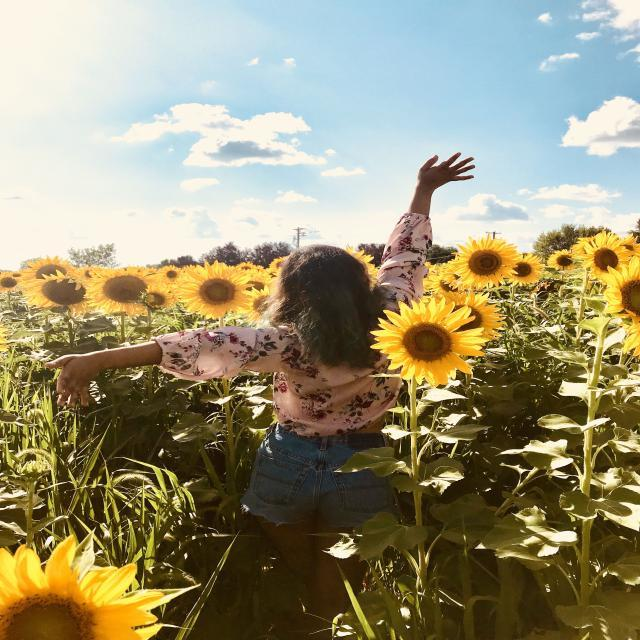sunflower: (0, 534, 201, 640), (370, 296, 488, 386), (424, 290, 506, 350), (174, 260, 253, 318), (599, 256, 639, 356), (448, 234, 519, 288), (84, 266, 156, 316), (22, 268, 90, 316), (571, 230, 631, 280), (16, 255, 76, 285), (504, 252, 546, 286), (572, 230, 618, 260), (441, 254, 475, 291), (346, 245, 381, 279), (240, 284, 270, 322), (422, 273, 467, 295), (144, 284, 178, 310), (611, 232, 640, 261), (546, 248, 578, 272), (72, 264, 105, 286), (153, 264, 184, 286), (242, 269, 271, 292), (161, 286, 180, 309), (235, 260, 264, 272), (0, 272, 17, 292), (268, 256, 286, 269), (264, 266, 282, 278), (142, 266, 158, 277), (128, 266, 143, 276), (181, 264, 196, 273), (423, 262, 437, 270), (10, 271, 22, 278)
